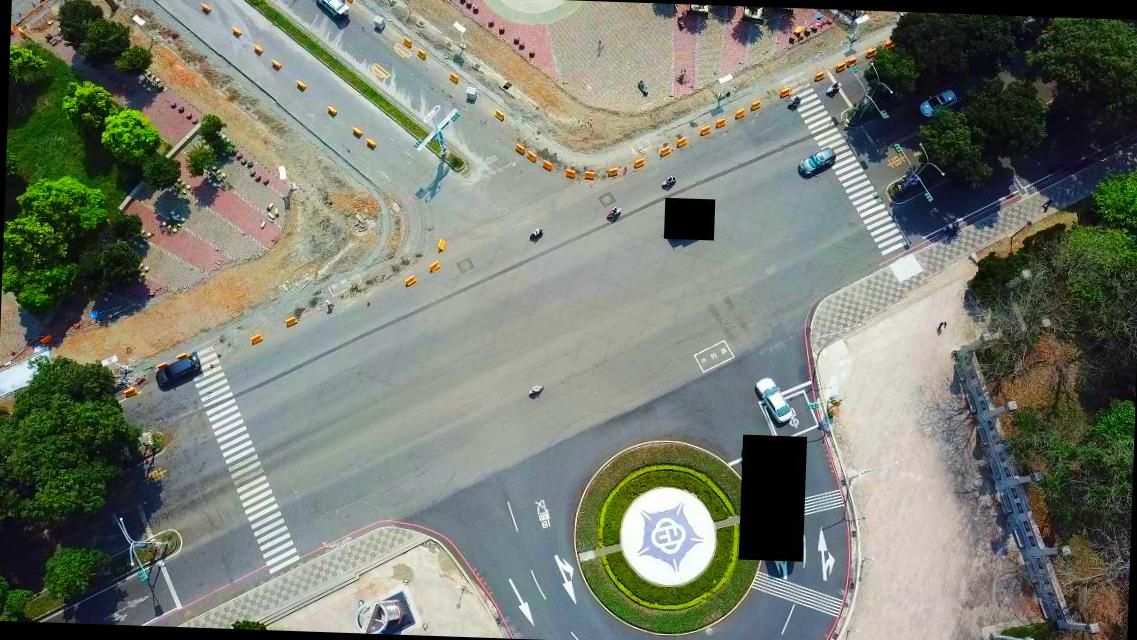vehicle: (752, 376, 794, 422), (154, 350, 200, 390), (796, 146, 836, 177), (918, 87, 956, 118), (312, 0, 348, 19)
